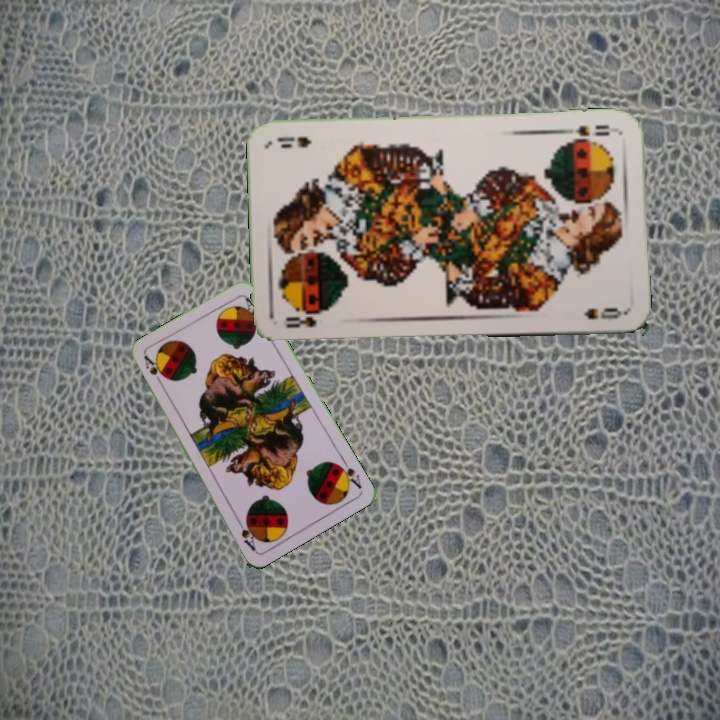SA: (333, 455, 364, 492), (140, 352, 166, 389)
SO: (281, 309, 325, 330), (572, 121, 612, 139)
